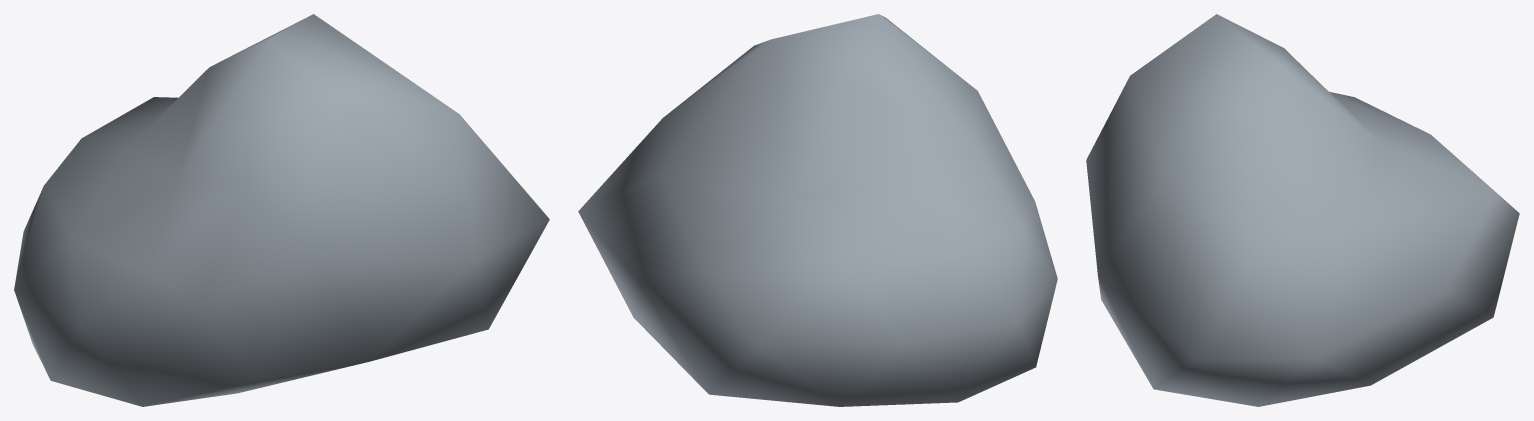
Rendered from RockB.fbx.
3 views of the same model, side by side, from view 1: azimuth 30°, elevation 25°; view 2: azimuth 150°, elevation 25°; view 3: azimuth 270°, elevation 25° (orthographic). The views are drawn at different scales.
Visible parts, largest first — view 1: RockB; view 2: RockB; view 3: RockB.
Boxes of the visible parts, <box> form: RockB: <box>14,14,549,406</box>; RockB: <box>578,14,1057,406</box>; RockB: <box>1086,14,1519,406</box>.
Size of the model in its own units: 259 by 179 by 220.
